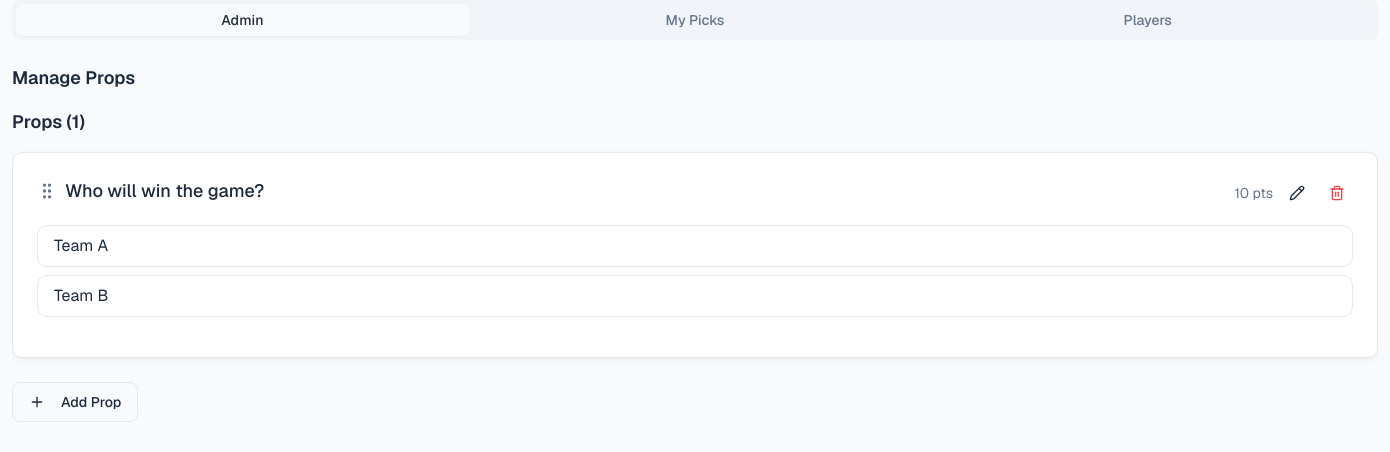
Test: CaptainTabsClient › My Picks Tab › progress tracker › shows "All picks completed" when complete
Click the tab "My Picks" at (695, 20), box [469, 4, 921, 36]
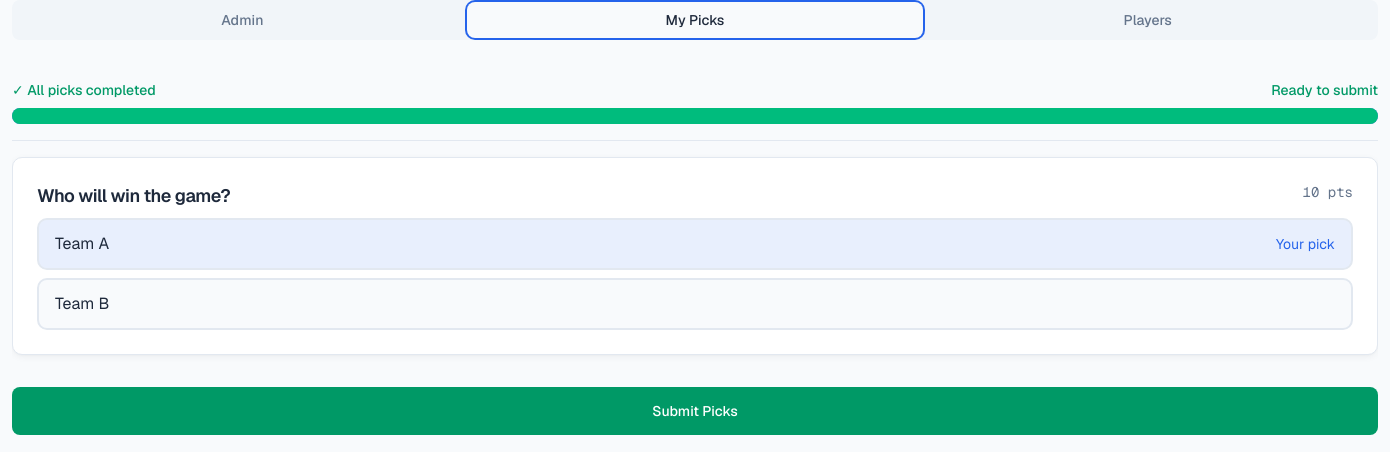
Check: the text "✓ All picks completed" is shown, box [12, 80, 156, 100]
